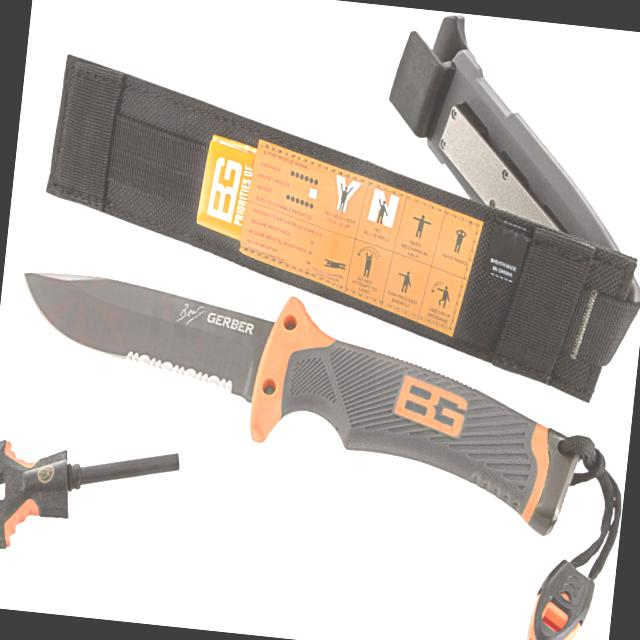knife: (8, 262, 280, 411)
